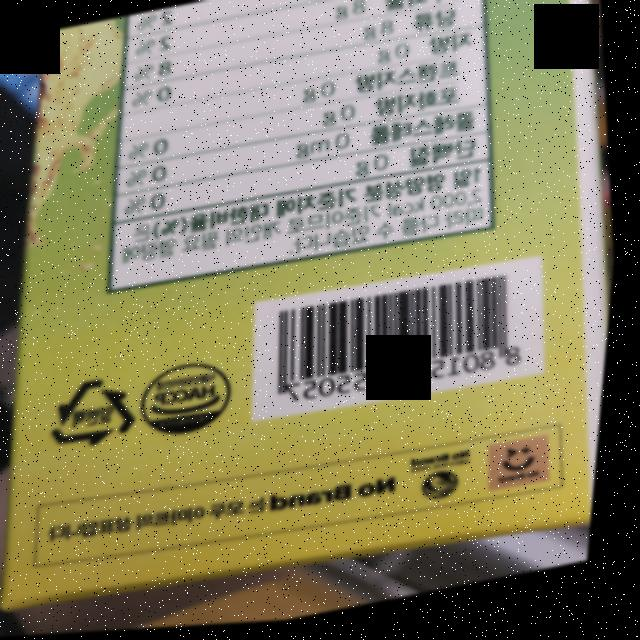NormalPack: (49, 370, 155, 459)
